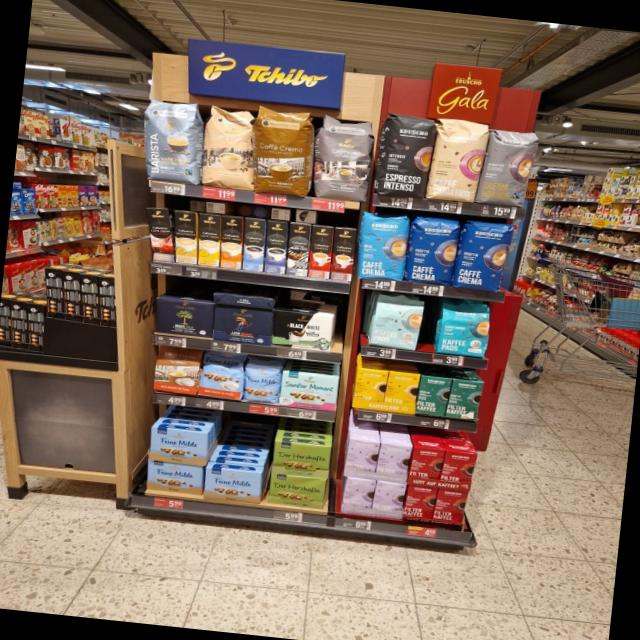BM Gemahlen: (152, 296, 214, 338)
BW Gemahlen: (270, 309, 336, 353)
Barista CC: (137, 98, 206, 185)
CC Mild: (198, 104, 258, 192)
CC Vollmundig: (152, 346, 202, 396)
CC Vollmundig 36 Pads: (248, 106, 318, 196)
Espresso Aromatisch: (311, 110, 377, 202)
FM 36 Pads: (198, 350, 246, 400)
FM Bohne: (242, 362, 282, 404)
FM Gemahlen: (147, 426, 209, 466), (202, 466, 264, 504), (144, 461, 203, 495)
Herzhatfe Mundig: (271, 440, 332, 479), (266, 472, 326, 510)
LG Gemahlen: (211, 304, 274, 346)
SM Gemahlen: (278, 368, 339, 412)
Simo CC Colombia: (146, 208, 174, 262)
Simo CCMild bigpack: (198, 212, 220, 266)
Simo CCVollmundig bigpack: (220, 215, 242, 269)
Simo Decaff: (174, 210, 197, 264)
Simo Es Brazil: (306, 225, 334, 278)
Simo Es Caramel: (329, 228, 356, 280)
Simo Es Elegant: (286, 223, 312, 276)
Simo Es Kraft: (264, 220, 287, 273)
Simo Es Vanilla: (242, 217, 265, 271)
